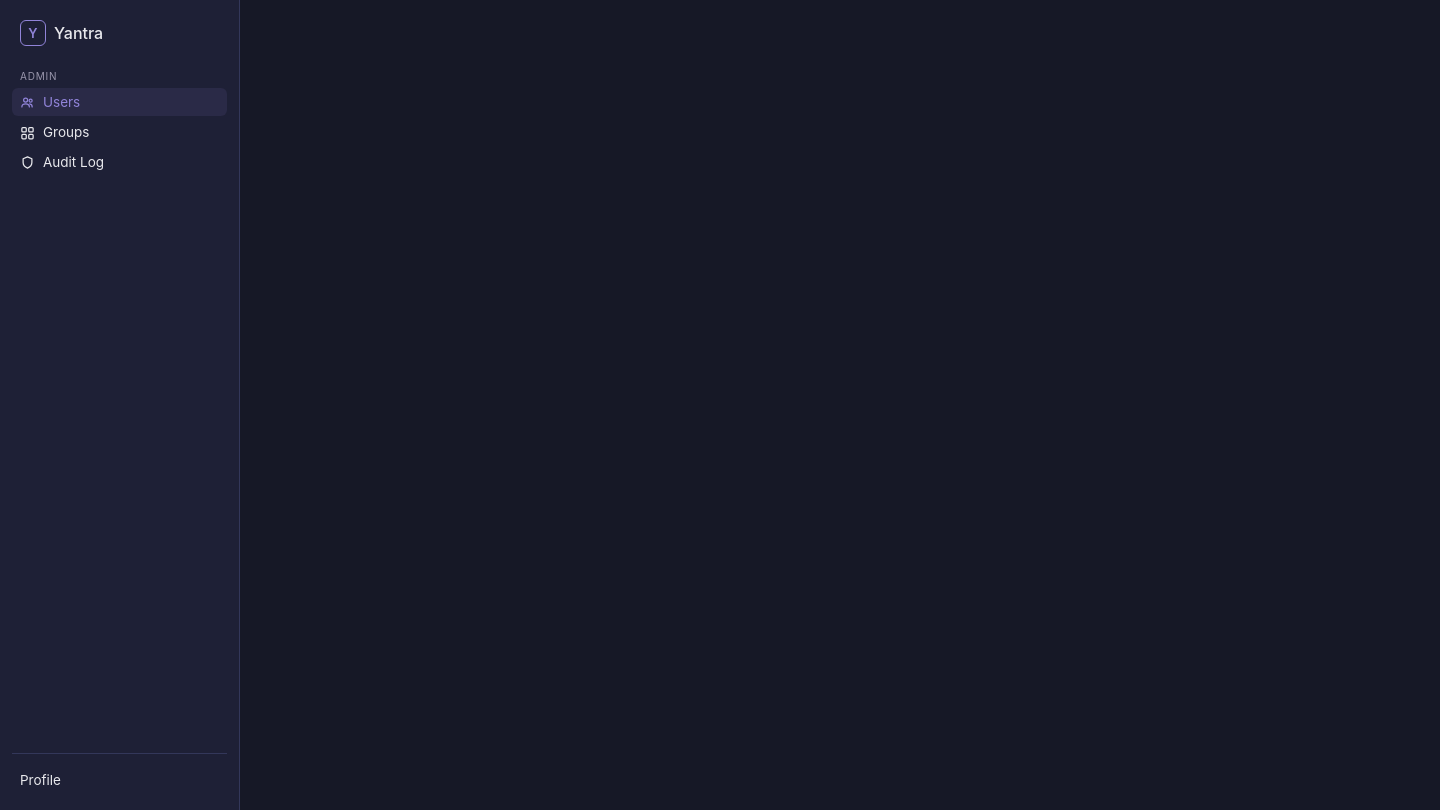
Test: Sidebar — logo click and the unsaved-changes guard › prompts before navigating home when there are unsaved changes, and does not navigate if the user backs out
Click the button titled "Go to Home": x=62, y=33 top-left (12, 16), bottom-right (111, 50)
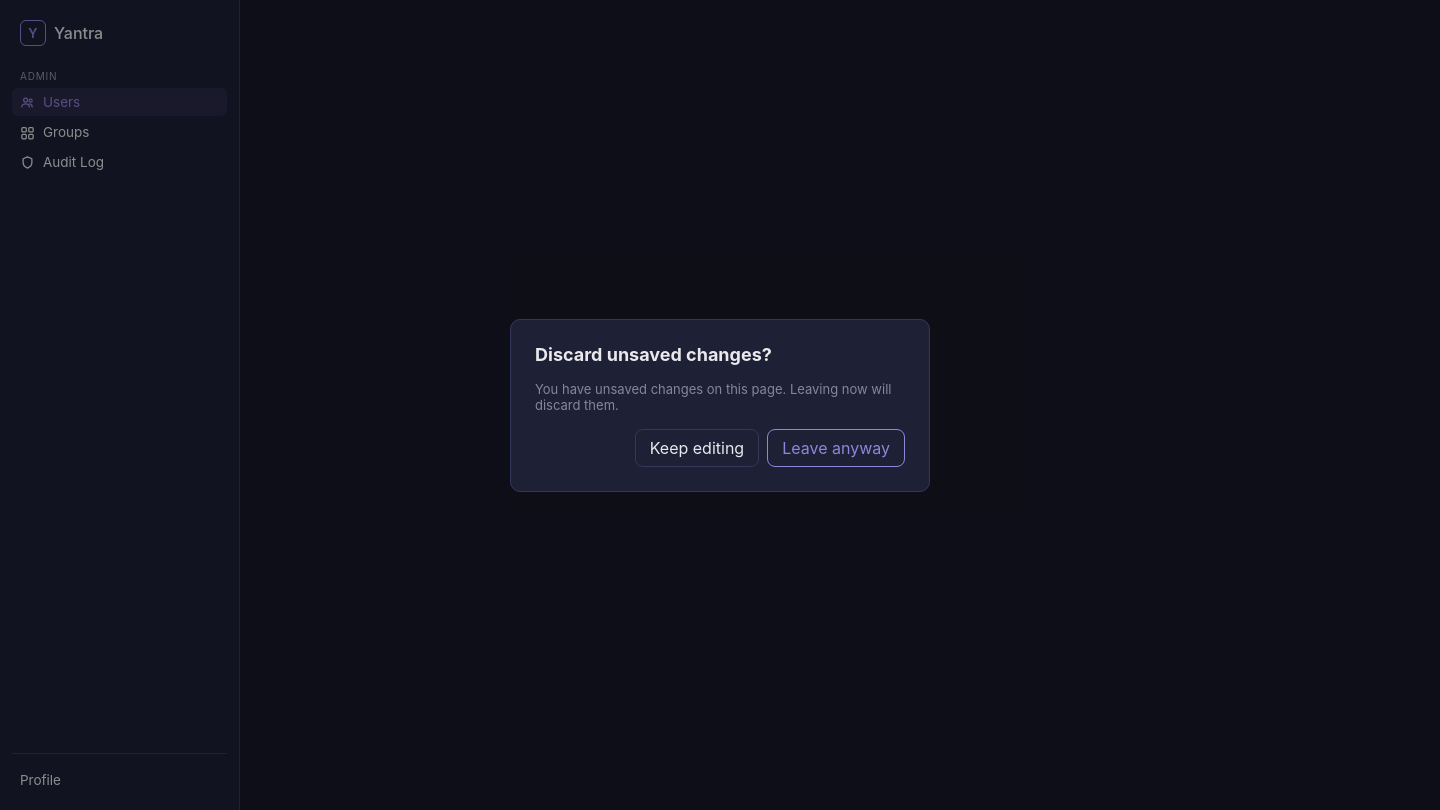
Expected: the heading "Discard unsaved changes?" is shown, top-left (535, 344), bottom-right (772, 364)
Click the button "Keep editing": x=697, y=448 top-left (635, 428), bottom-right (759, 466)
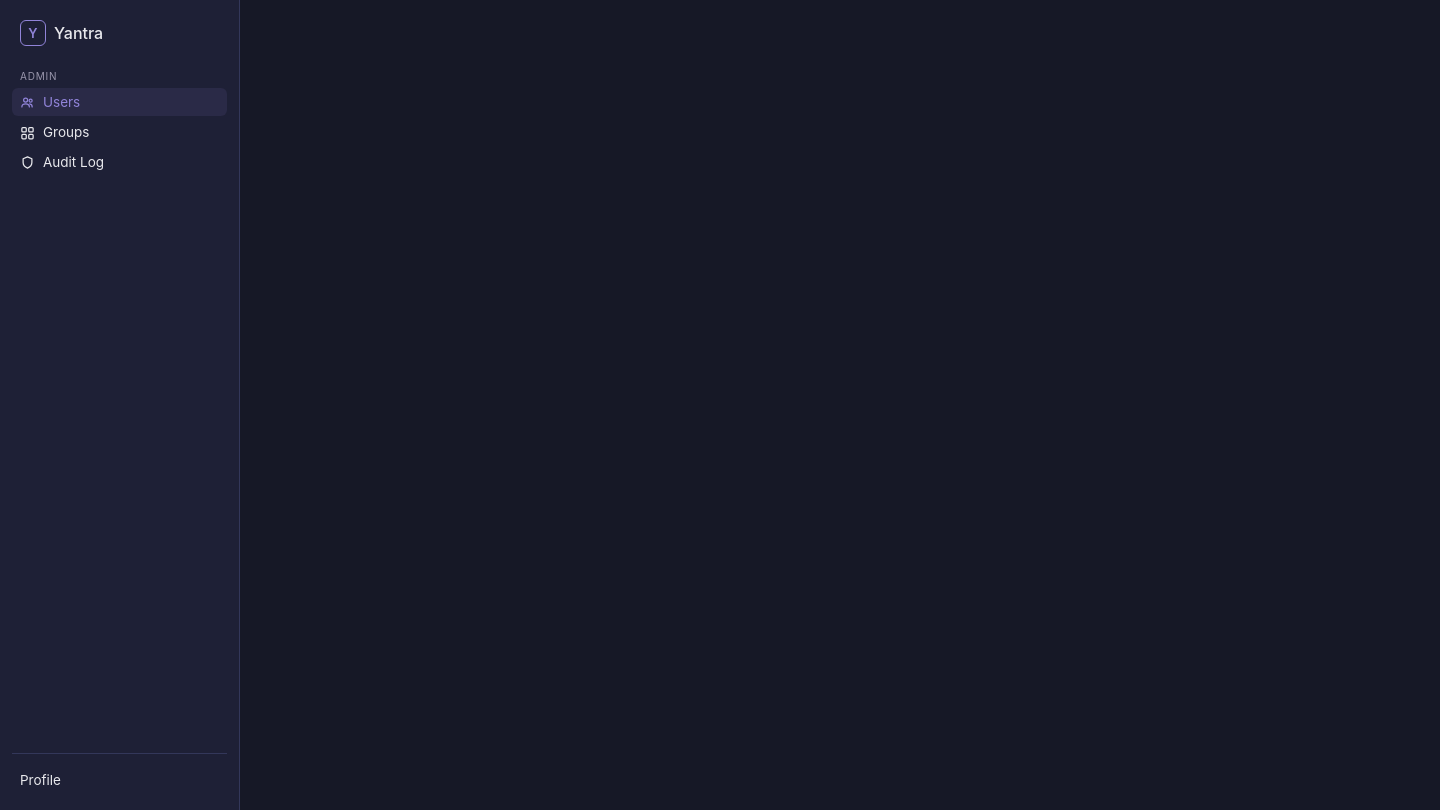
Expected: the heading "Discard unsaved changes?" is gone
